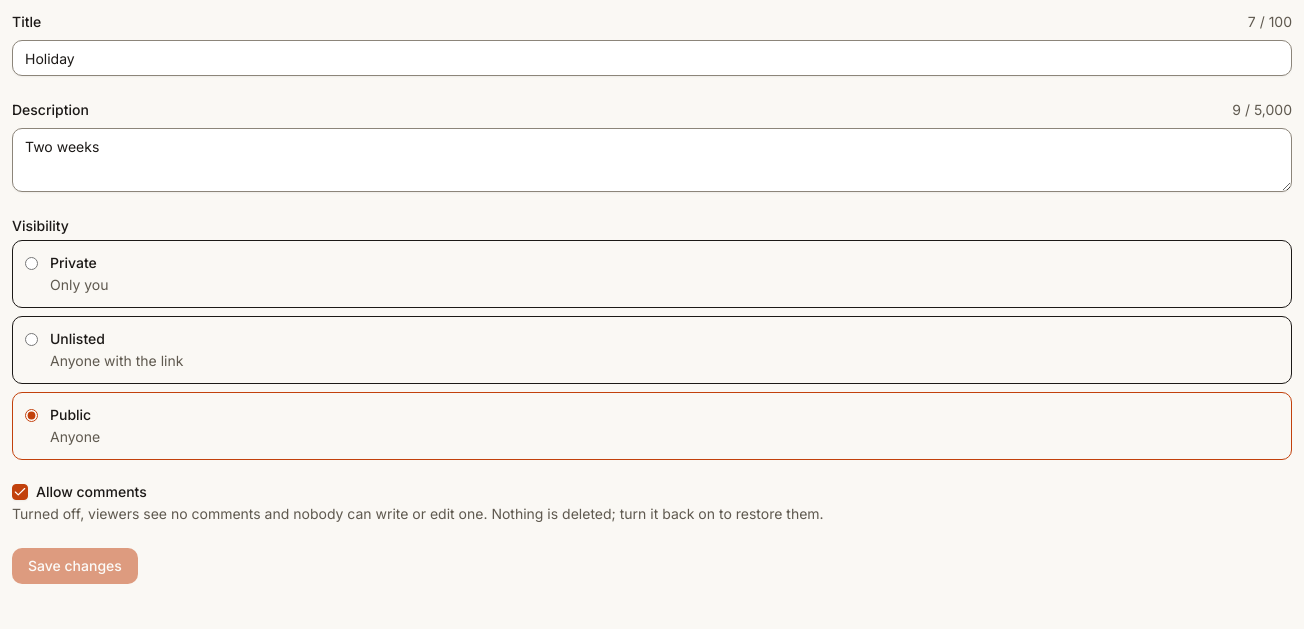
Test case: EditVideoForm › blocks saving a non-private Video whose title was cleared, and says why
The image size is (1304, 629).
Clear the field labelled "Title": (652, 58) top-left (12, 40), bottom-right (1292, 76)
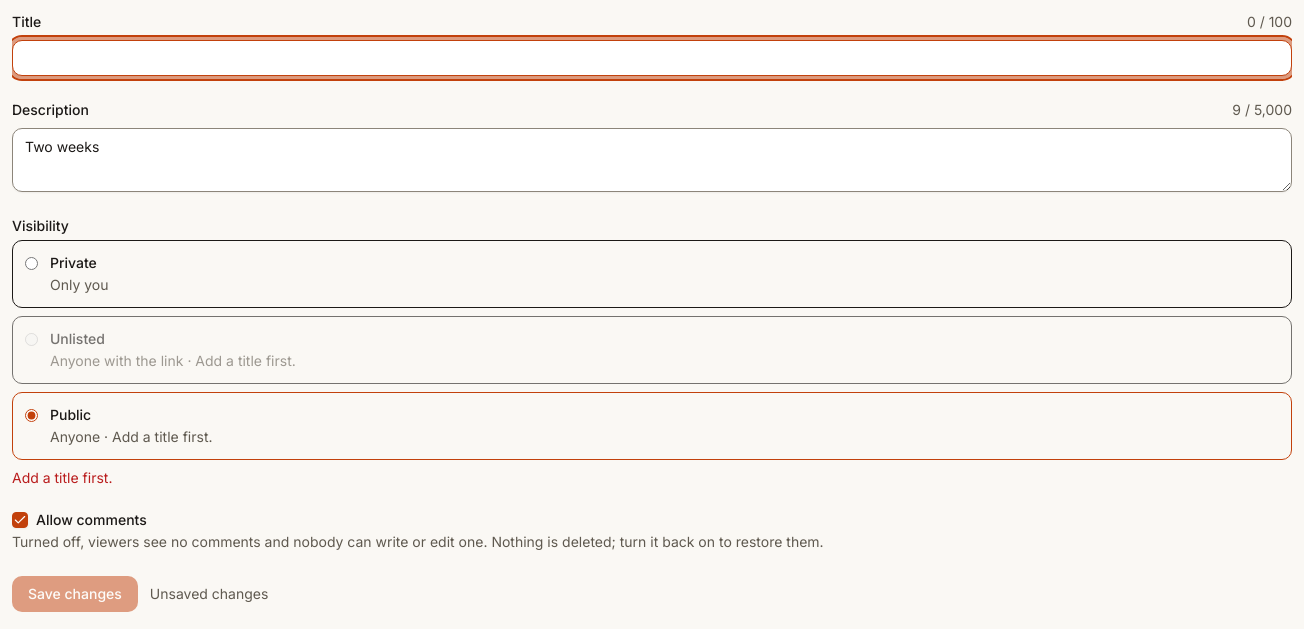
Check: the button "Save changes" is disabled, box top-left (12, 576), bottom-right (138, 612)
Check: the text "Add a title first." is shown, box top-left (12, 469), bottom-right (112, 486)
